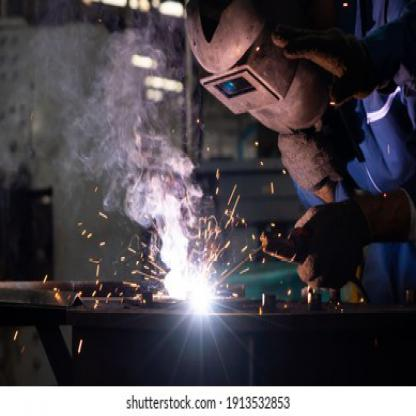with_gloves: (287, 198, 373, 246), (295, 251, 358, 290)
